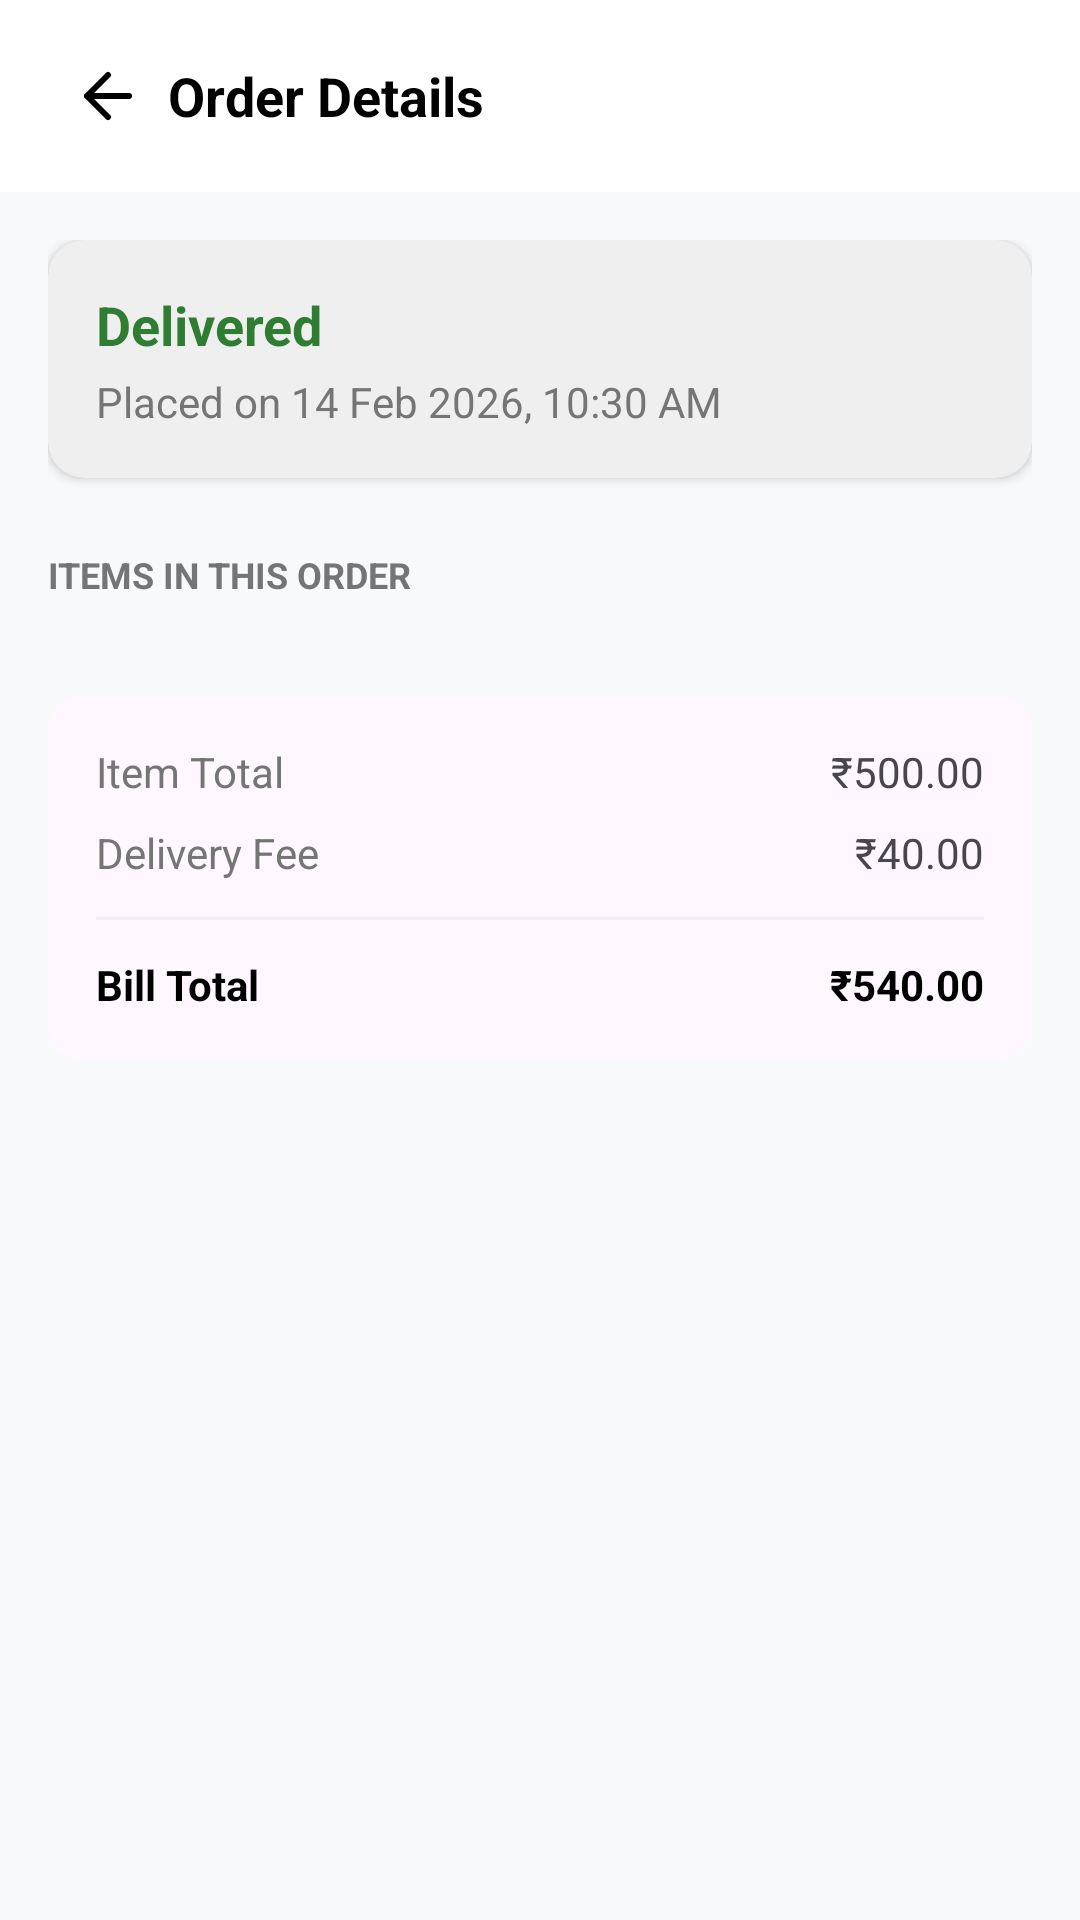

Icons on this 1080 x 1920 Android screen, each with its box as (x1, y1, x2, y2):
back: (84, 72, 132, 120)
